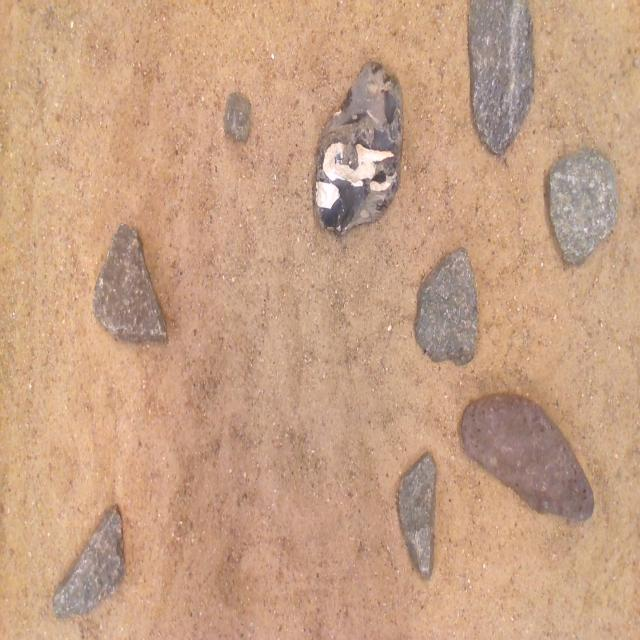rock: (461, 395, 593, 520), (315, 62, 403, 233), (468, 0, 533, 152), (93, 223, 166, 342), (53, 505, 125, 617), (549, 148, 618, 262), (414, 248, 477, 364), (398, 453, 436, 579), (224, 92, 250, 140)
